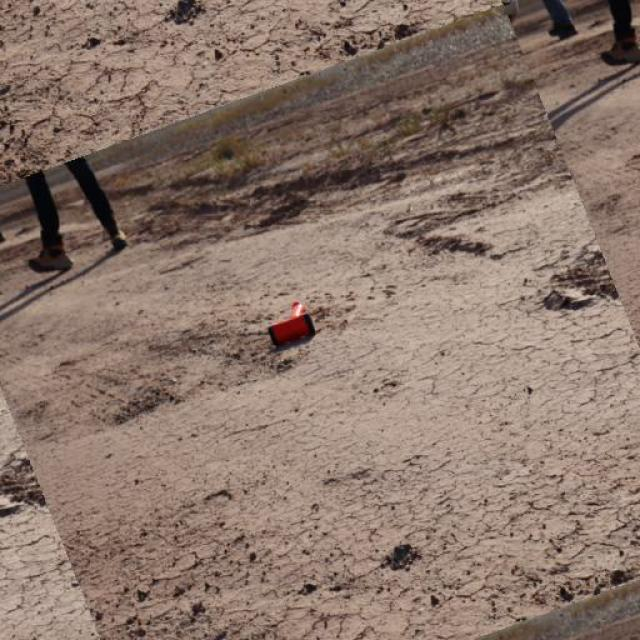mallet: (266, 299, 315, 346)
